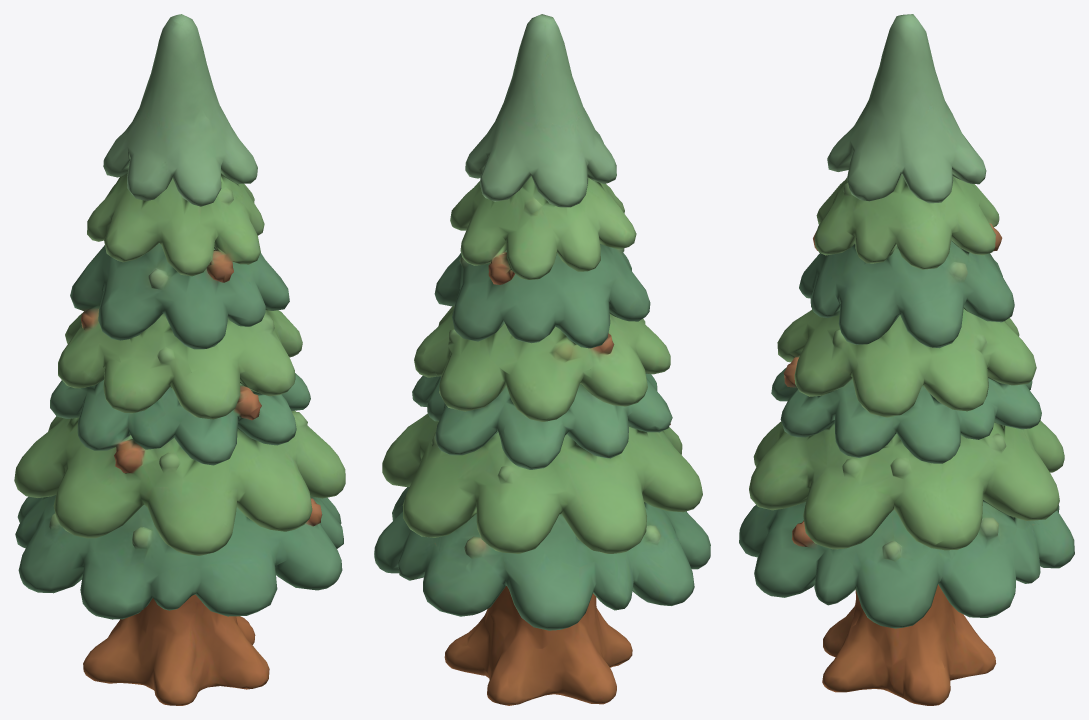
File: pine_tree.glb
The picture shows the model from 3 angles, left to right: view 1: azimuth 30°, elevation 25°; view 2: azimuth 150°, elevation 25°; view 3: azimuth 270°, elevation 25°; orthographic projection.
Visible parts, largest first — view 1: tripo_node_32769b37-5764-45fb-8738-42d33fc637a2; view 2: tripo_node_32769b37-5764-45fb-8738-42d33fc637a2; view 3: tripo_node_32769b37-5764-45fb-8738-42d33fc637a2.
Part boxes in pixels (bbox=[...]): tripo_node_32769b37-5764-45fb-8738-42d33fc637a2: bbox=[14, 14, 345, 705]; tripo_node_32769b37-5764-45fb-8738-42d33fc637a2: bbox=[374, 14, 710, 705]; tripo_node_32769b37-5764-45fb-8738-42d33fc637a2: bbox=[739, 14, 1074, 705].
Size of the model in its own units: 0.4814 by 1 by 0.4658.
1 material, 1 textured.
